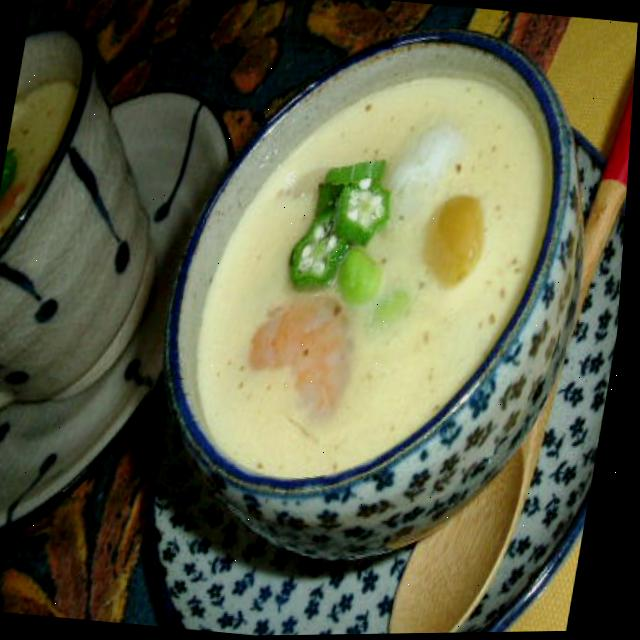鸡蛋料理: (124, 12, 606, 583)
